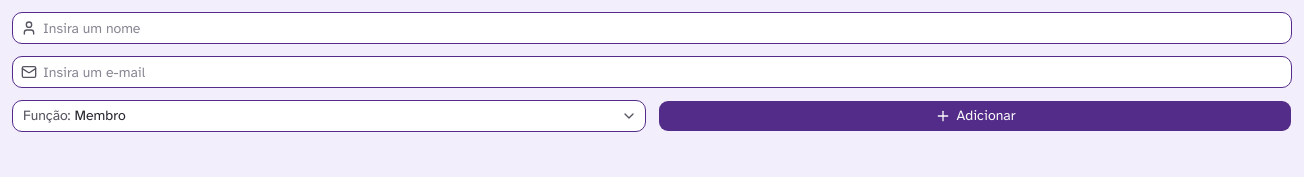
Test: AddMemberForm › bloqueia nome com um caractere e mostra o erro no campo
The width and height of the screenshot is (1304, 177).
Click the field labelled "nome". click: (664, 28)
box: [37,13,1291,43]
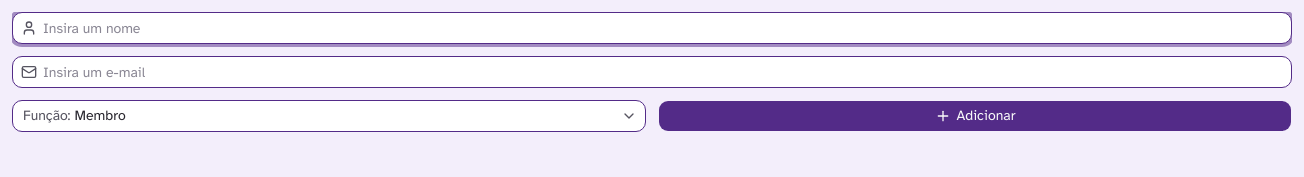
Type keys "A"
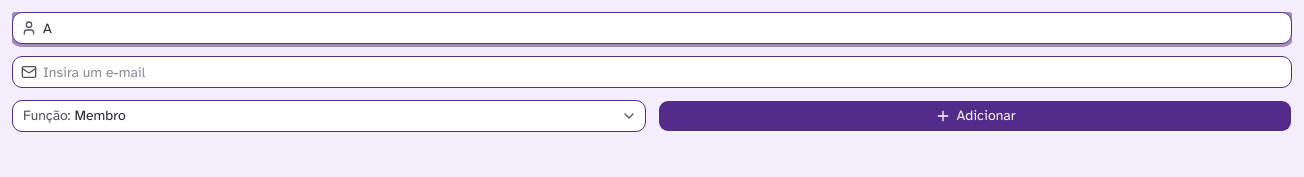
Click the field labelled "e-mail". click: (664, 72)
box: [37,57,1291,87]
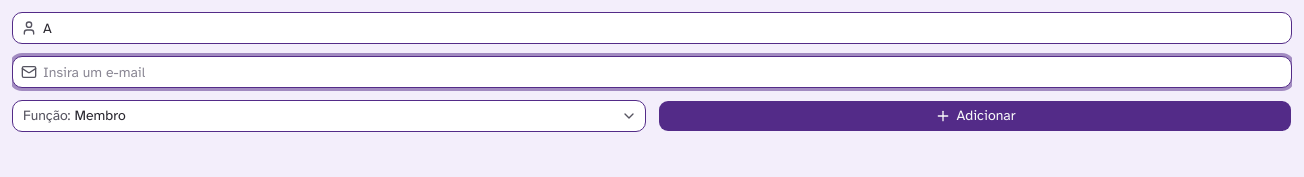
Type keys "ana@empresa.com.br"
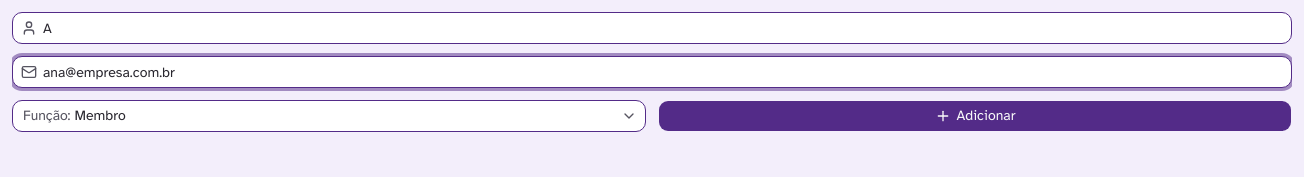
Click the button "Adicionar". click: (975, 116)
box: [658,100,1292,132]
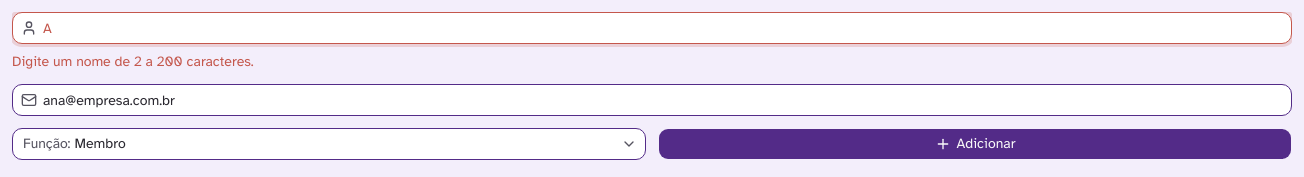
Result: the message reads "Digite um nome de 2 a 200 caracteres." at [12,53,254,70]
